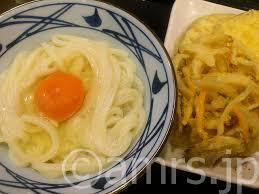kakiage: (179, 54, 257, 166)
